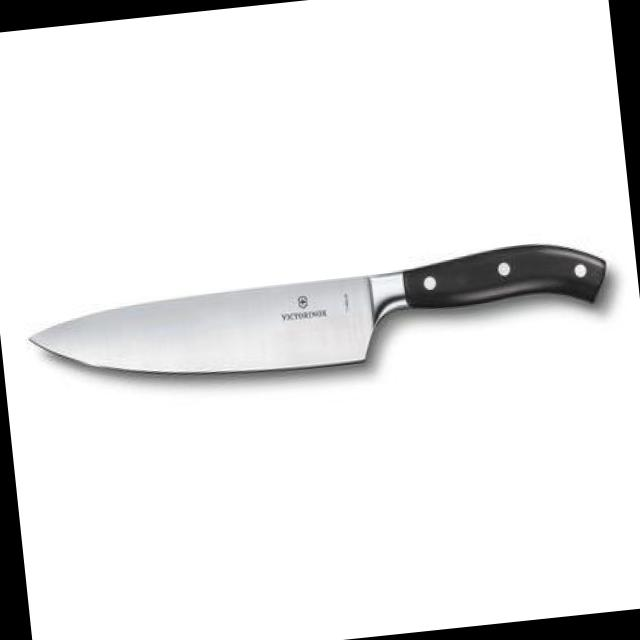Weapon: (16, 235, 627, 405)
